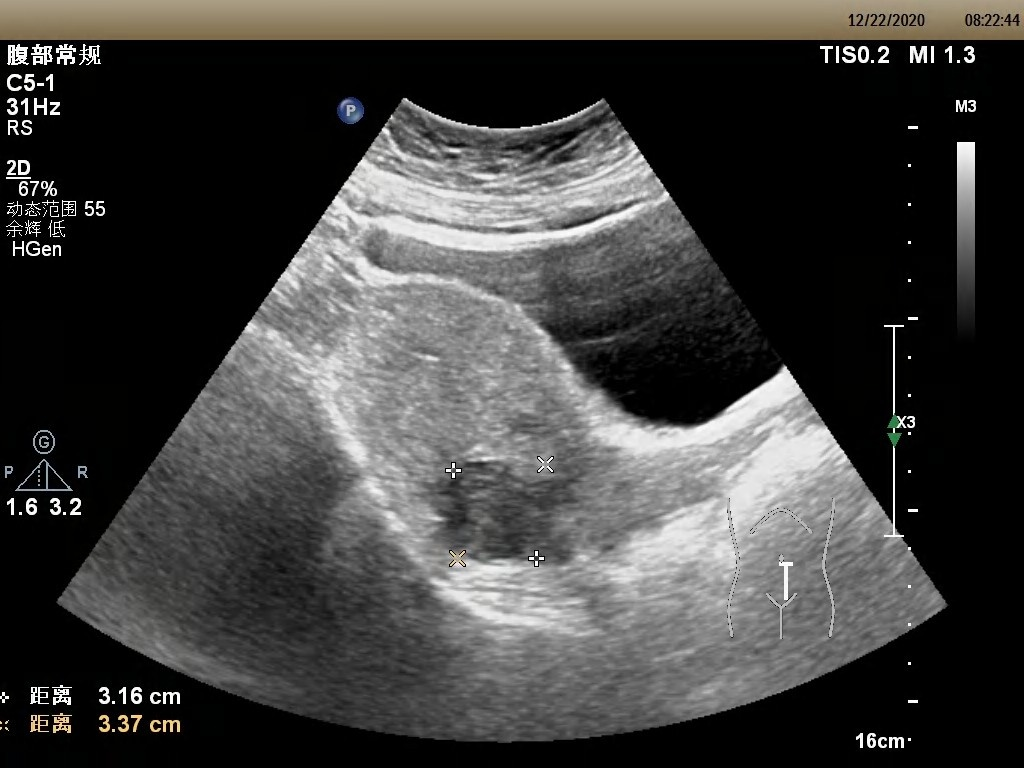肌瘤: (458, 464, 543, 560)
